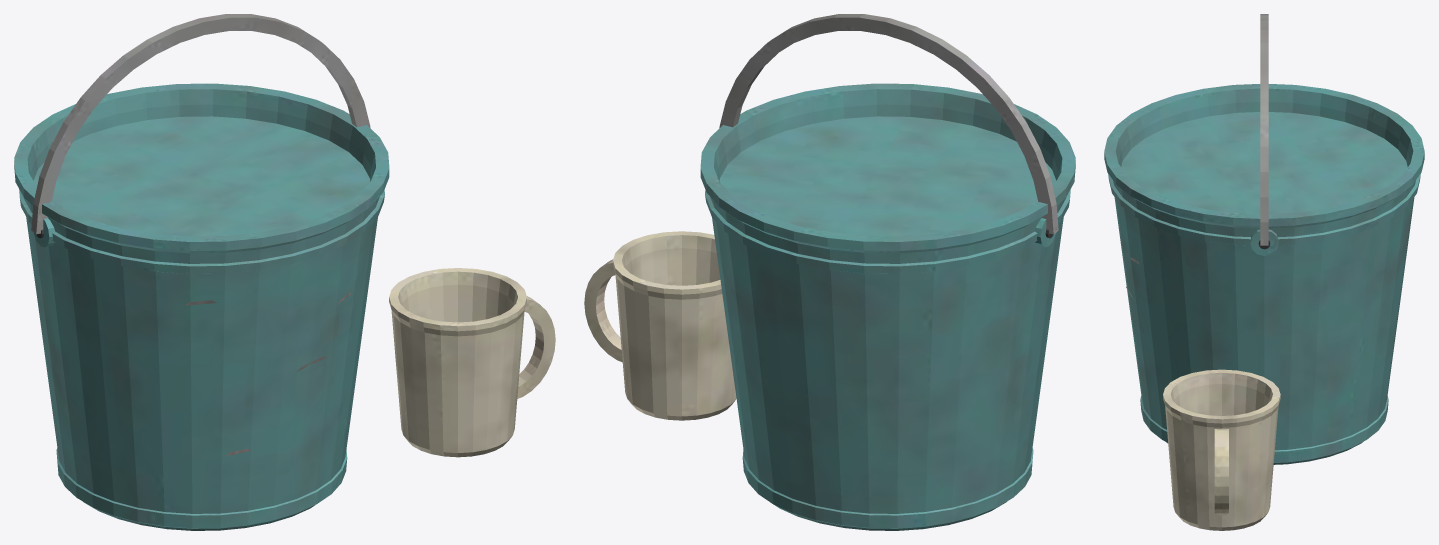
File: B20_bucket_and_mug.glb
The picture shows the model from 3 angles, left to right: view 1: azimuth 30°, elevation 25°; view 2: azimuth 150°, elevation 25°; view 3: azimuth 270°, elevation 25°; orthographic projection. The views are drawn at different scales.
Visible parts, largest first — view 1: Bucket hollow tapered shell; view 2: Bucket hollow tapered shell; view 3: Bucket hollow tapered shell.
Part boxes in pixels (<box>): Bucket hollow tapered shell: <box>14,14,555,530</box>; Bucket hollow tapered shell: <box>584,14,1075,530</box>; Bucket hollow tapered shell: <box>1104,14,1424,530</box>.
Size of the model in its own units: 0.5 by 0.4394 by 0.3304.
5 materials, 5 textured.
